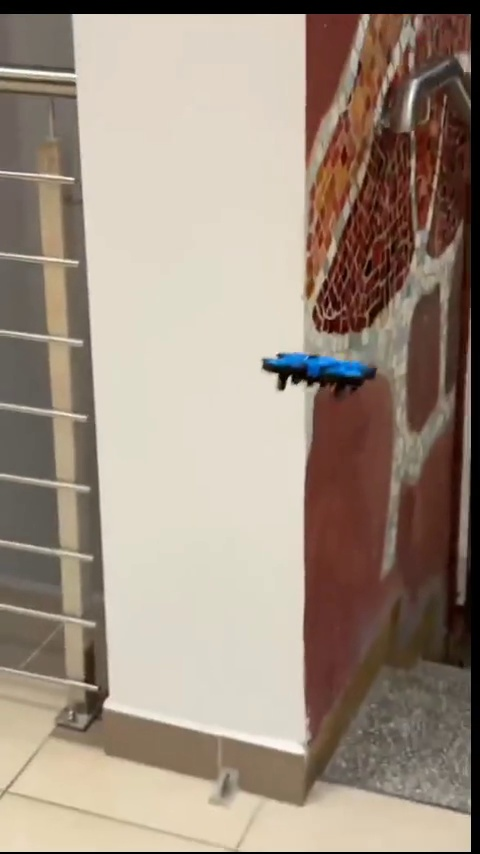drone: (265, 348, 375, 394)
